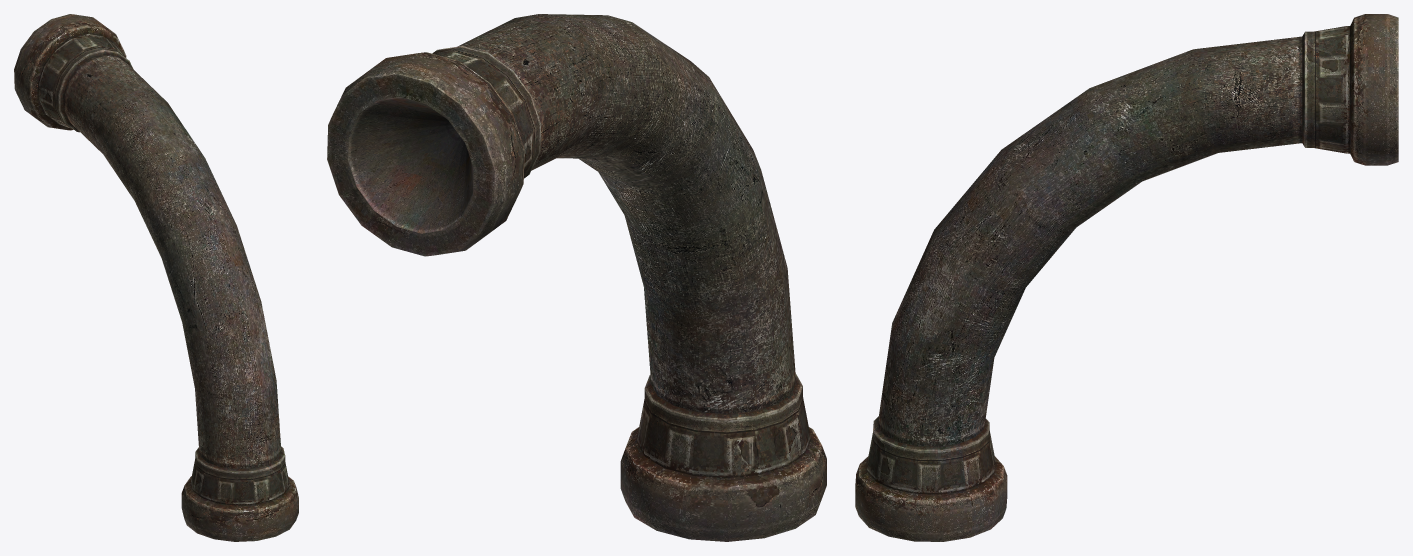
File: pipe_large_90_pplant.dae
3 views of the same model, side by side, from view 1: azimuth 30°, elevation 25°; view 2: azimuth 150°, elevation 25°; view 3: azimuth 270°, elevation 25° (orthographic). The views are drawn at different scales.
Visible parts, largest first — view 1: pipe_large_90_pplant; view 2: pipe_large_90_pplant; view 3: pipe_large_90_pplant.
Part boxes in pixels (left/top/right/bottom): pipe_large_90_pplant: left=14, top=14, right=298, bottom=541; pipe_large_90_pplant: left=327, top=14, right=826, bottom=541; pipe_large_90_pplant: left=855, top=14, right=1398, bottom=541.
Bounding box in the file's own units: 0.4907 × 1.75 × 1.75.
